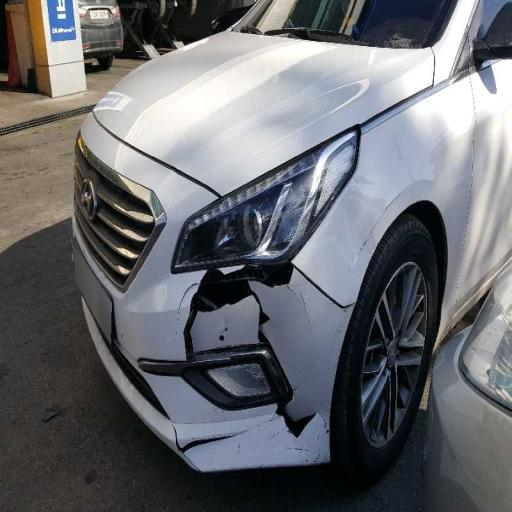broken: (173, 254, 363, 457)
